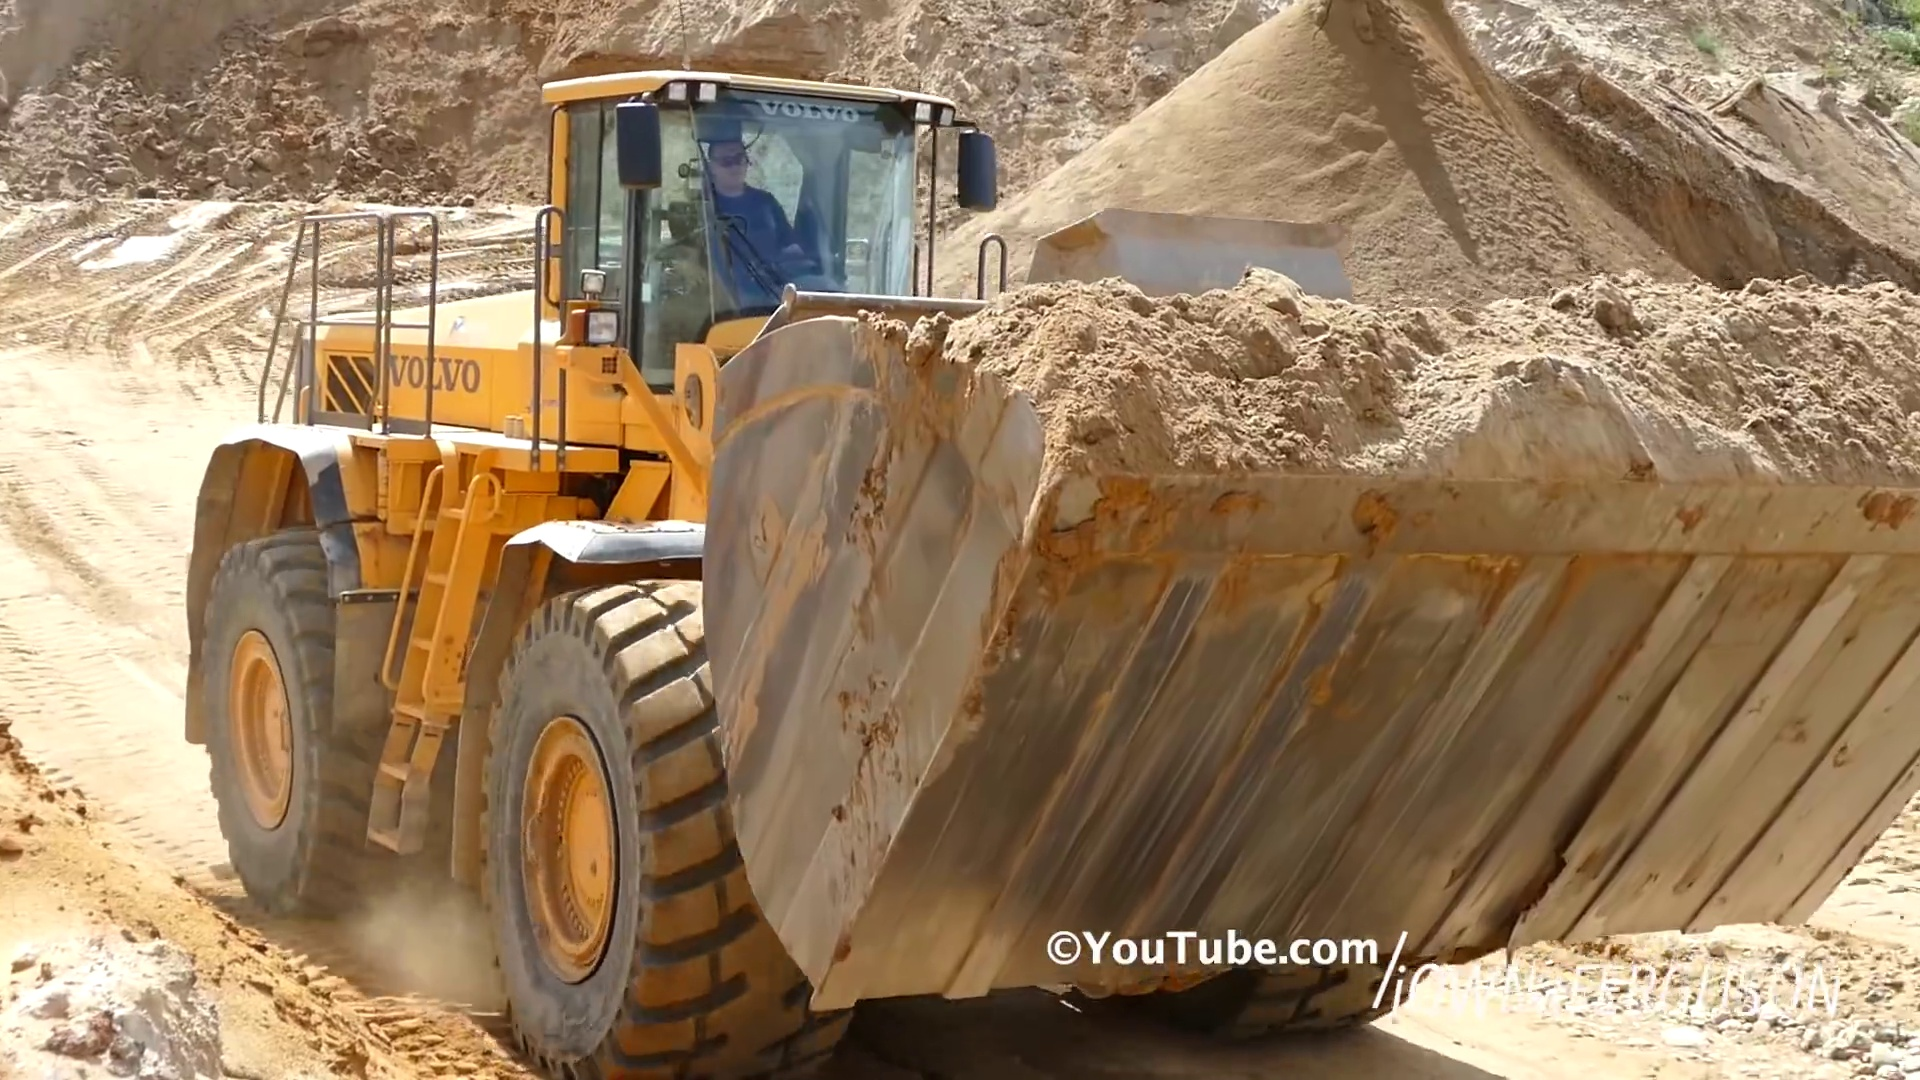wheel loader: (182, 73, 1916, 1076)
